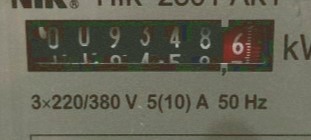0: (75, 22, 90, 45), (45, 22, 58, 48)
3: (136, 21, 150, 47)
4: (166, 21, 180, 48)
6: (228, 28, 245, 55)
8: (196, 22, 211, 50)
9: (105, 22, 120, 48)
screen: (14, 10, 283, 79)
